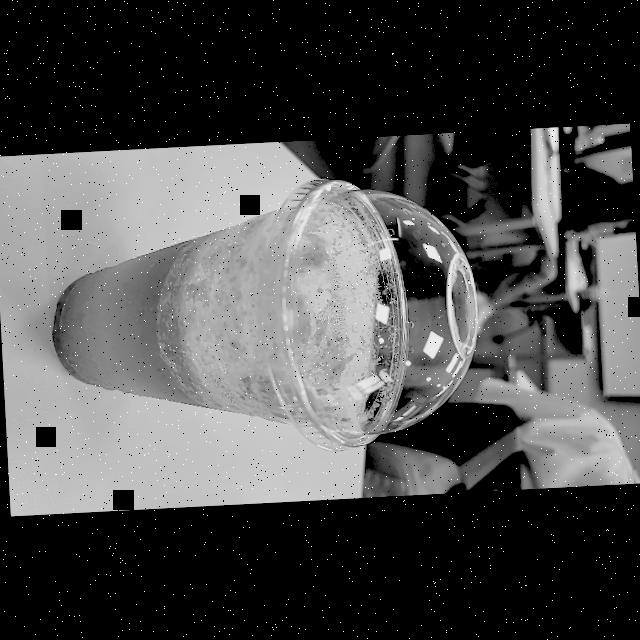plastic_cup: (41, 172, 486, 468)
plastic_cup_lid: (246, 166, 486, 457)
